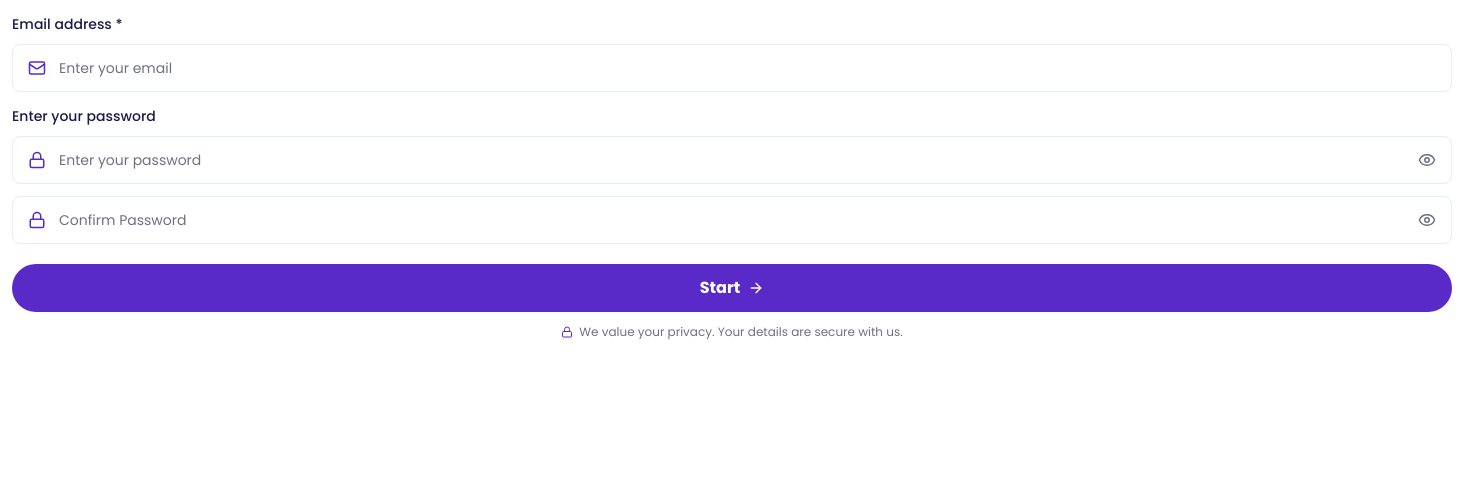
Test: SetPasswordForm — password rules checklist › reopens on a failed submit, so the error naming the requirements can point at them
The image size is (1464, 497).
Type "weak" into the password field labelled "Enter your password". click: point(732, 160)
box: x1=12 y1=136 x2=1452 y2=184
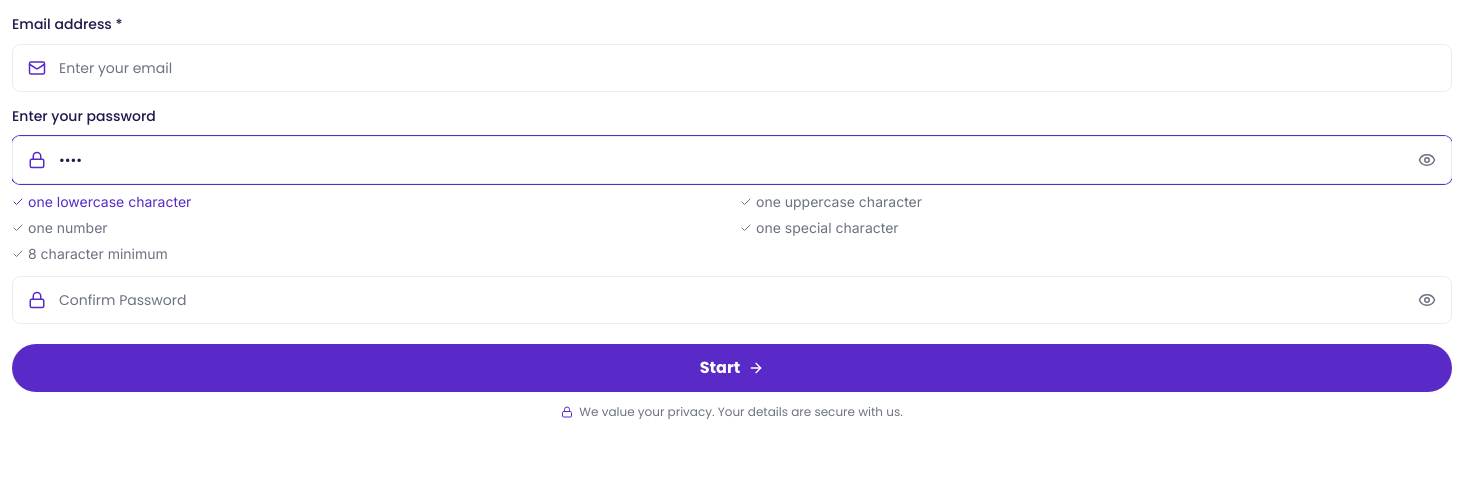
Click the field labelled "Email address *". click: point(732, 68)
box: x1=12 y1=44 x2=1452 y2=92
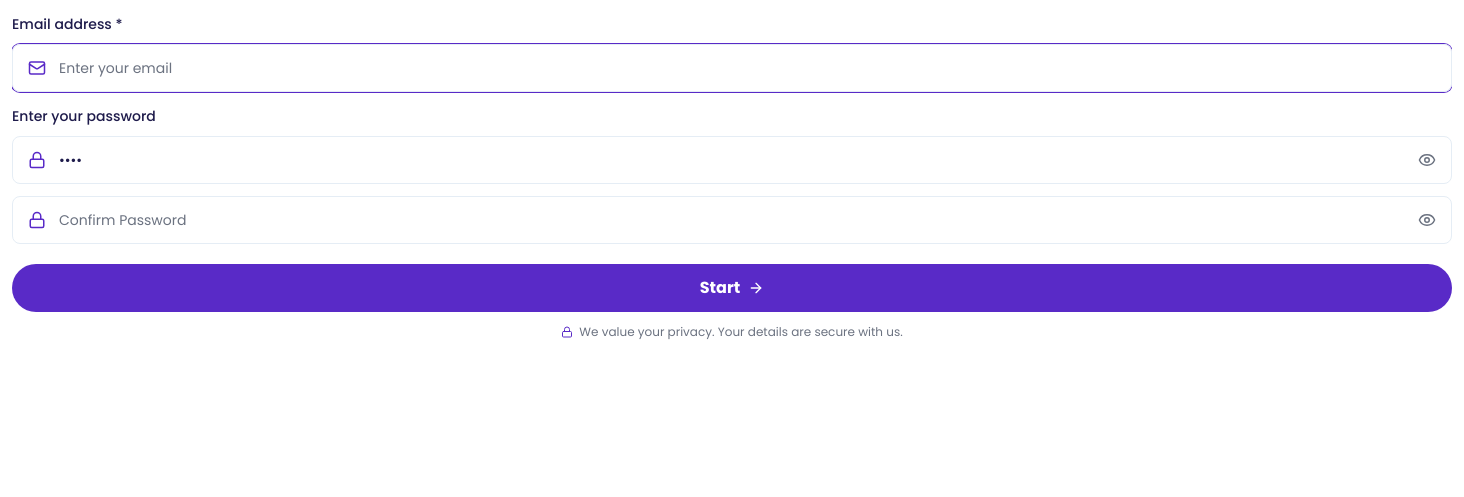
Result: the text "8 character minimum" is gone
Click the button "Start". click: point(732, 288)
box: x1=12 y1=264 x2=1452 y2=312
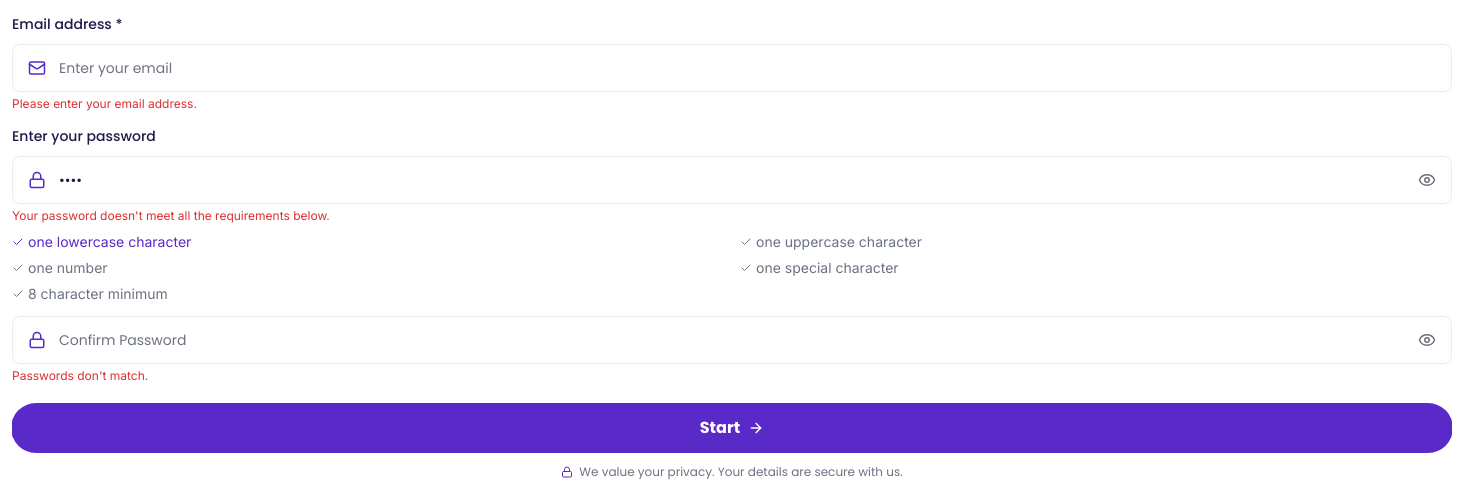
Result: the text "Your password doesn't meet all the requirements below." is shown at x1=12 y1=208 x2=330 y2=223
Result: the text "8 character minimum" is shown at x1=12 y1=285 x2=168 y2=302
